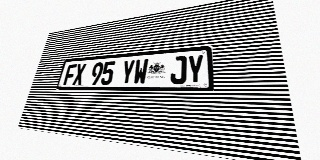5: (100, 61, 115, 85)
9: (89, 62, 104, 85)
F: (63, 64, 77, 85)
J: (170, 56, 187, 84)
W: (133, 59, 149, 85)
X: (72, 63, 86, 85)
Y: (187, 54, 204, 84), (120, 60, 135, 85)
